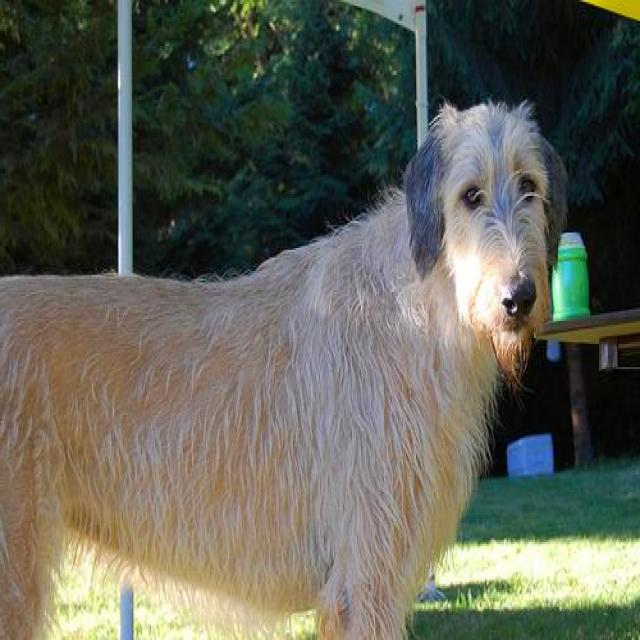irish_wolfhound: (2, 102, 570, 638)
